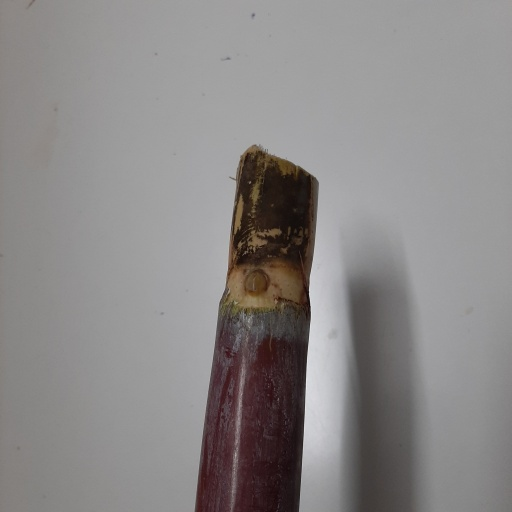Bud: (243, 268, 269, 297)
